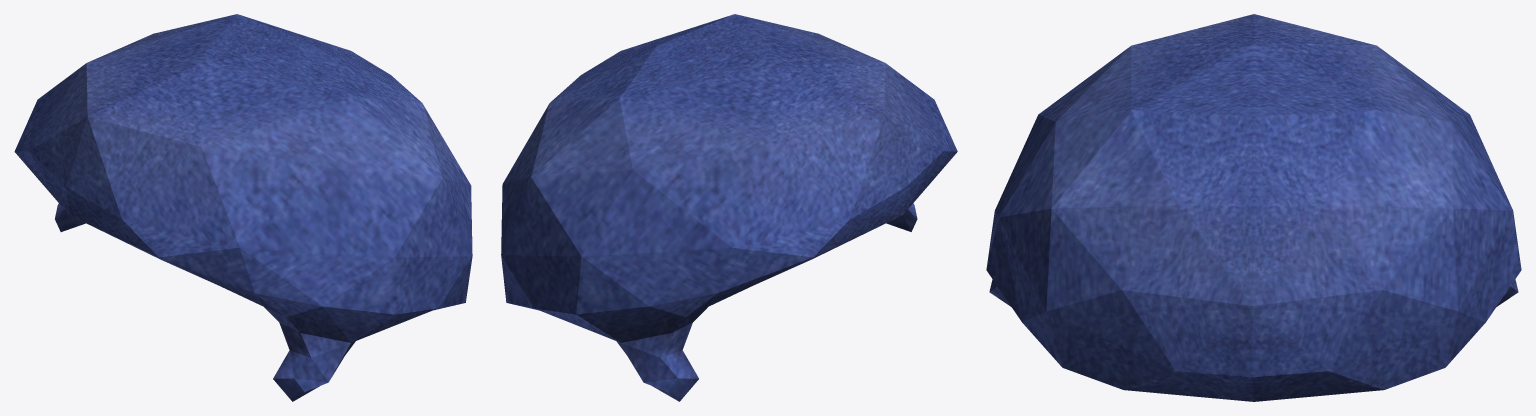
The model's file is Whale_afro.obj.
The picture shows the model from 3 angles, left to right: view 1: azimuth 30°, elevation 25°; view 2: azimuth 150°, elevation 25°; view 3: azimuth 270°, elevation 25°; orthographic projection. The views are drawn at different scales.
Parts seen in each view (by area): view 1: Whale_afro_tri; view 2: Whale_afro_tri; view 3: Whale_afro_tri.
Boxes of the visible parts, <box> form: Whale_afro_tri: <box>14,14,472,401</box>; Whale_afro_tri: <box>501,14,957,401</box>; Whale_afro_tri: <box>986,14,1521,401</box>.
Size of the model in its own units: 1.47 by 0.9354 by 1.72.
Materials: 1 (1 with a texture image).
